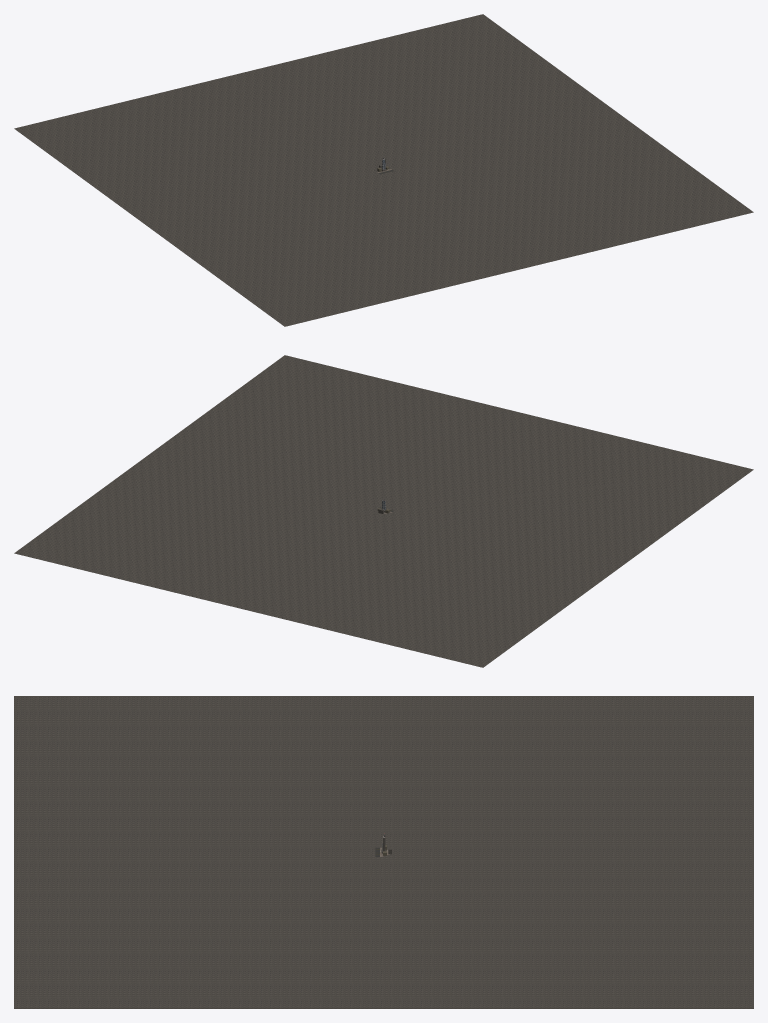
File: torre.glb
3 renders of one model, top to bottom at view 1: azimuth 30°, elevation 25°; view 2: azimuth 150°, elevation 25°; view 3: azimuth 270°, elevation 25°, orthographic. The views are drawn at different scales.
Visible parts, largest first — view 1: grupo_hormigon; view 2: grupo_hormigon; view 3: grupo_hormigon.
Part boxes in pixels (x1=…): grupo_hormigon: x1=14, y1=14, x2=753, y2=326; grupo_hormigon: x1=14, y1=355, x2=753, y2=667; grupo_hormigon: x1=14, y1=696, x2=753, y2=1008.
Size of the model in its own units: 4000 by 113 by 4000.
12 materials, 7 textured.
